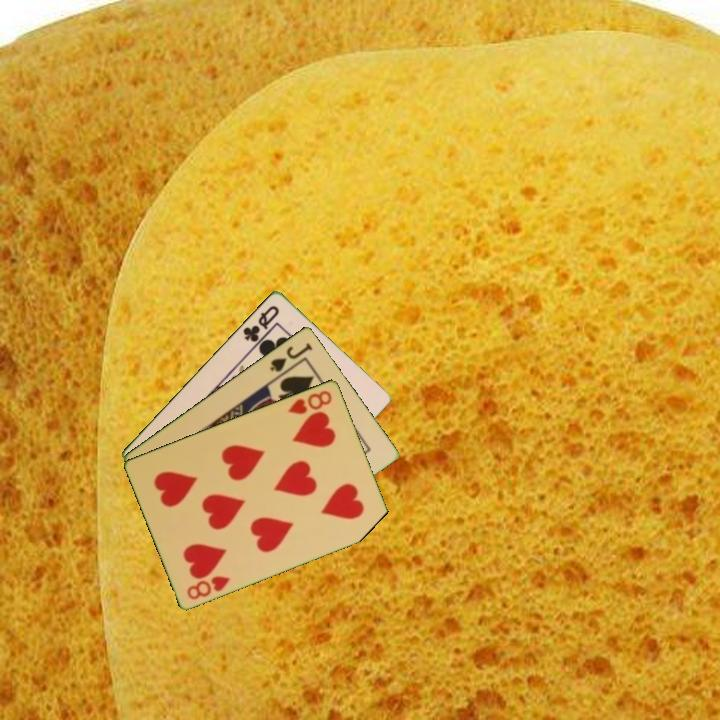8h: (284, 386, 335, 417), (183, 572, 233, 602)
Js: (266, 339, 315, 375)
Qc: (239, 301, 282, 345)
